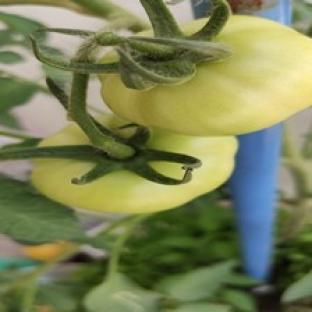Tomato: (101, 16, 311, 136), (31, 130, 236, 214), (23, 241, 69, 261)
